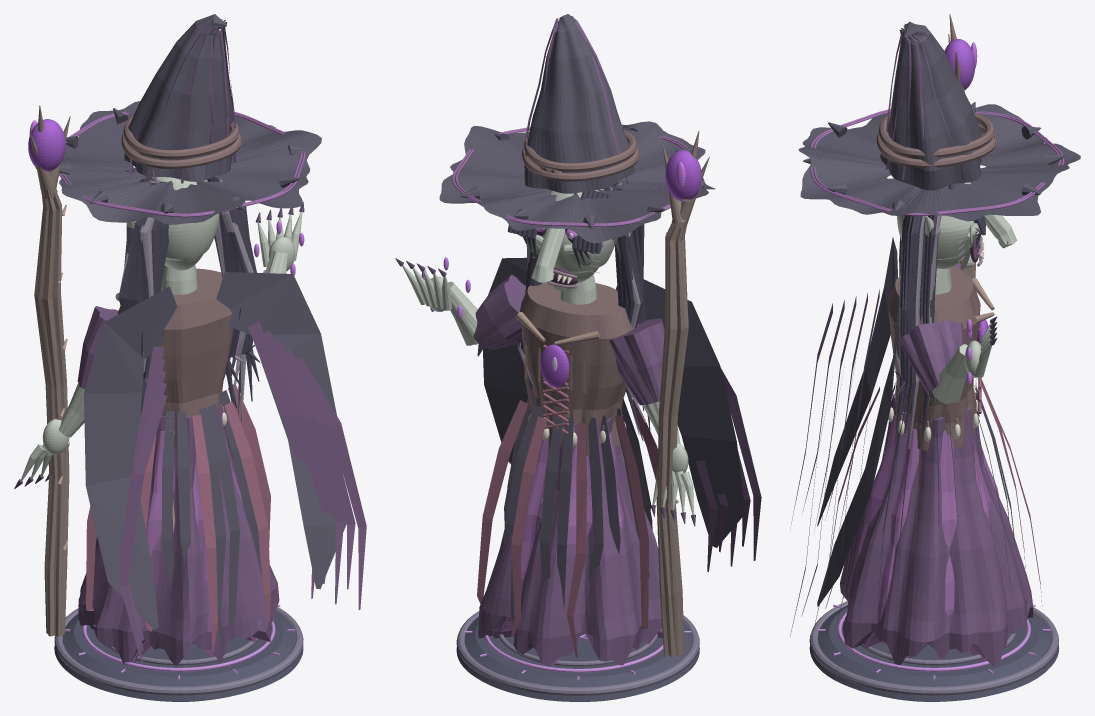
Rendered from reine_maudite.fbx.
3 views of the same model, side by side, from view 1: azimuth 30°, elevation 25°; view 2: azimuth 150°, elevation 25°; view 3: azimuth 270°, elevation 25° (orthographic). The views are drawn at different scales.
Visible parts, largest first — view 1: Cape_Shoulder_Panels, Costume_Dress_Main, Cape_Tattered_Hem, Hat_Warped_Brim, Hat_Bent_Pointed_Crown, Staff_Gnarled_Wood, Costume_Shredded_Layers.001, Base_Obsidian_Platform, Torso_Corset, Costume_Shredded_Layers, Hair_Witch_Tendrils, Base_Engraved_Ring (+17 smaller); view 2: Costume_Dress_Main, Hat_Warped_Brim, Cape_Shoulder_Panels, Hat_Bent_Pointed_Crown, Torso_Corset, Costume_Shredded_Layers.001, Costume_Shredded_Layers, Staff_Gnarled_Wood, Base_Obsidian_Platform, Costume_Inner_Spectral_Petticoat, Arms_Ragged_Sleeves_L, Cape_Tattered_Hem (+22 smaller); view 3: Costume_Dress_Main, Hat_Warped_Brim, Hat_Bent_Pointed_Crown, Base_Obsidian_Platform, Cape_Shoulder_Panels, Costume_Inner_Spectral_Petticoat, Torso_Corset, Hair_Witch_Tendrils, Base_Engraved_Ring, Cape_Tattered_Hem, Arms_Ragged_Sleeves_R, Hat_Leather_Band (+13 smaller).
Part boxes in pixels (x1,y1,x2,y2): Cape_Shoulder_Panels: (84, 272, 346, 629); Costume_Dress_Main: (78, 404, 279, 666); Cape_Tattered_Hem: (119, 321, 366, 662); Hat_Warped_Brim: (59, 101, 321, 224); Hat_Bent_Pointed_Crown: (124, 14, 233, 181); Staff_Gnarled_Wood: (34, 171, 69, 636); Costume_Shredded_Layers.001: (140, 390, 261, 643); Base_Obsidian_Platform: (54, 611, 303, 701); Torso_Corset: (117, 268, 232, 450); Costume_Shredded_Layers: (86, 383, 270, 651); Hair_Witch_Tendrils: (118, 176, 260, 415); Base_Engraved_Ring: (54, 607, 303, 695); Costume_Dress_Main: (478, 411, 661, 666); Hat_Warped_Brim: (439, 121, 715, 243); Cape_Shoulder_Panels: (483, 257, 745, 547); Hat_Bent_Pointed_Crown: (524, 14, 634, 193); Torso_Corset: (520, 283, 638, 455); Costume_Shredded_Layers.001: (503, 395, 652, 626); Costume_Shredded_Layers: (477, 386, 657, 657); Staff_Gnarled_Wood: (656, 201, 688, 656); Base_Obsidian_Platform: (456, 616, 699, 701); Costume_Inner_Spectral_Petticoat: (493, 430, 662, 665); Arms_Ragged_Sleeves_L: (609, 318, 664, 405); Cape_Tattered_Hem: (696, 368, 761, 571); Costume_Dress_Main: (840, 393, 1033, 666); Hat_Warped_Brim: (798, 104, 1080, 221); Hat_Bent_Pointed_Crown: (880, 22, 984, 190); Base_Obsidian_Platform: (809, 605, 1059, 701); Cape_Shoulder_Panels: (817, 237, 898, 606); Costume_Inner_Spectral_Petticoat: (847, 415, 998, 660); Torso_Corset: (888, 266, 980, 450); Hair_Witch_Tendrils: (893, 188, 941, 449); Base_Engraved_Ring: (809, 601, 1058, 695); Cape_Tattered_Hem: (790, 289, 879, 636); Arms_Ragged_Sleeves_R: (898, 320, 963, 397); Hat_Leather_Band: (876, 112, 997, 168).
Bounding box in the file's own units: 88.46 × 182 × 74.58.
